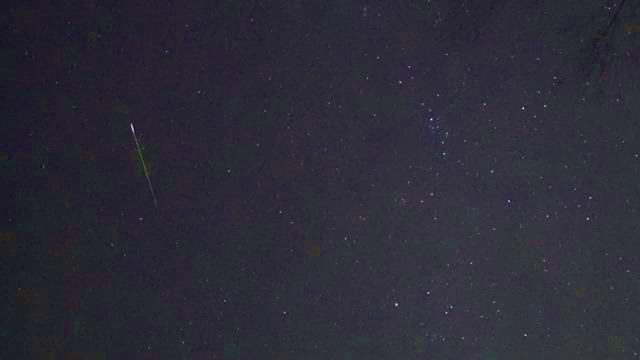meteorite: (115, 115, 166, 216)
